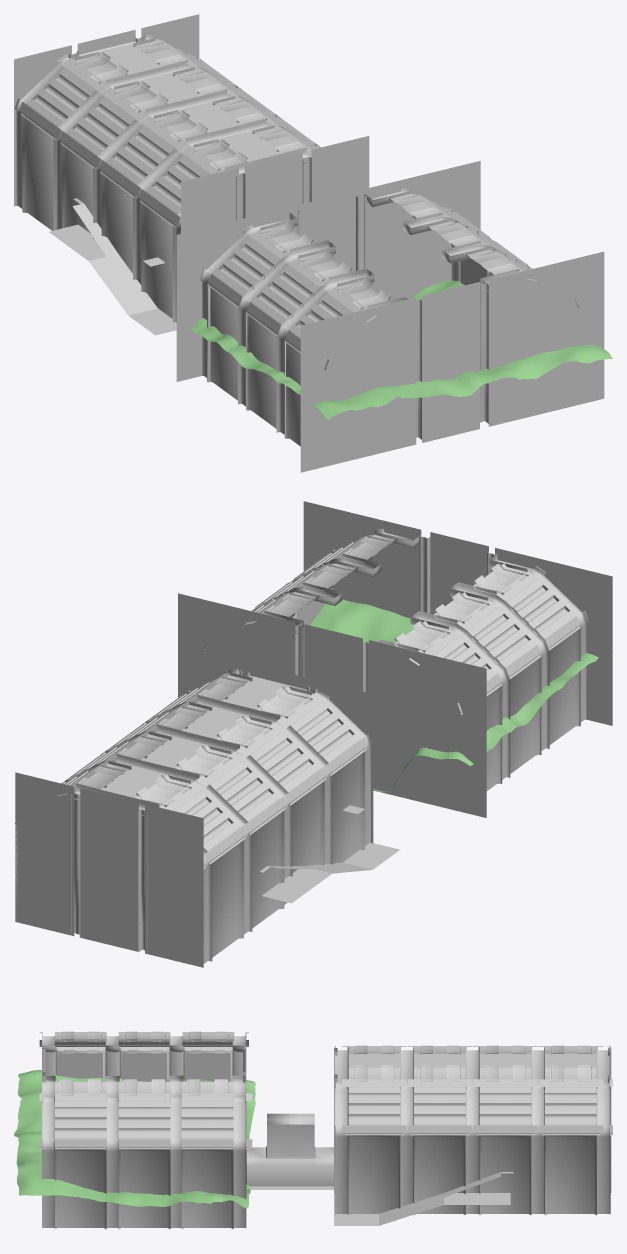
Rendered from SwimRoom.fbx.
3 views of the same model, one above another, from view 1: azimuth 30°, elevation 25°; view 2: azimuth 150°, elevation 25°; view 3: azimuth 270°, elevation 25° (orthographic). The views are drawn at different scales.
Visible parts, largest first — view 1: SwimRoom; view 2: SwimRoom; view 3: SwimRoom.
Part boxes in pixels (x1,y1,x2,y2): SwimRoom: (14, 14, 612, 472); SwimRoom: (14, 501, 612, 967); SwimRoom: (14, 1031, 612, 1229).
Bounding box in the file's own units: 52.5 × 24.63 × 109.
